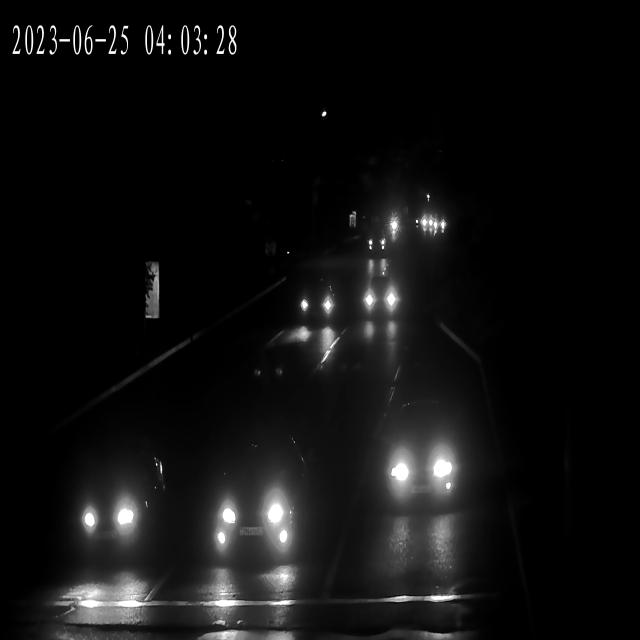Car: (198, 448, 304, 558), (69, 442, 164, 557), (372, 403, 464, 514), (288, 278, 336, 322), (361, 278, 403, 318), (366, 230, 394, 255), (364, 228, 391, 251), (422, 218, 441, 233), (425, 220, 446, 233), (432, 218, 450, 233)
